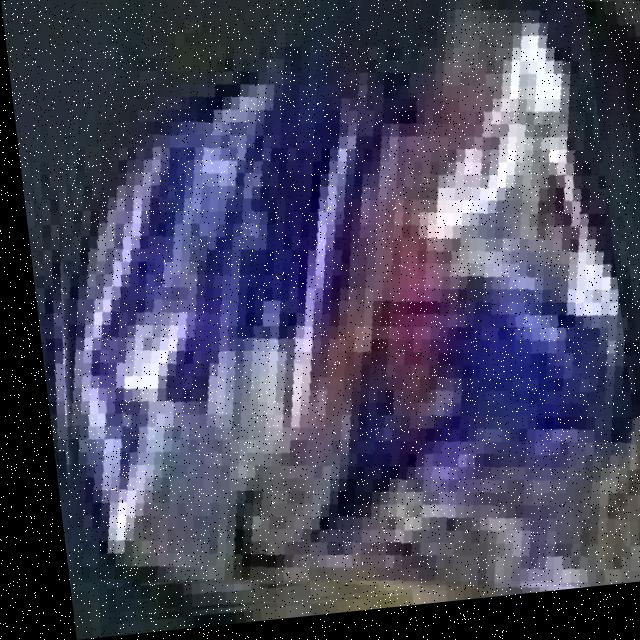litter: (49, 0, 609, 595)
